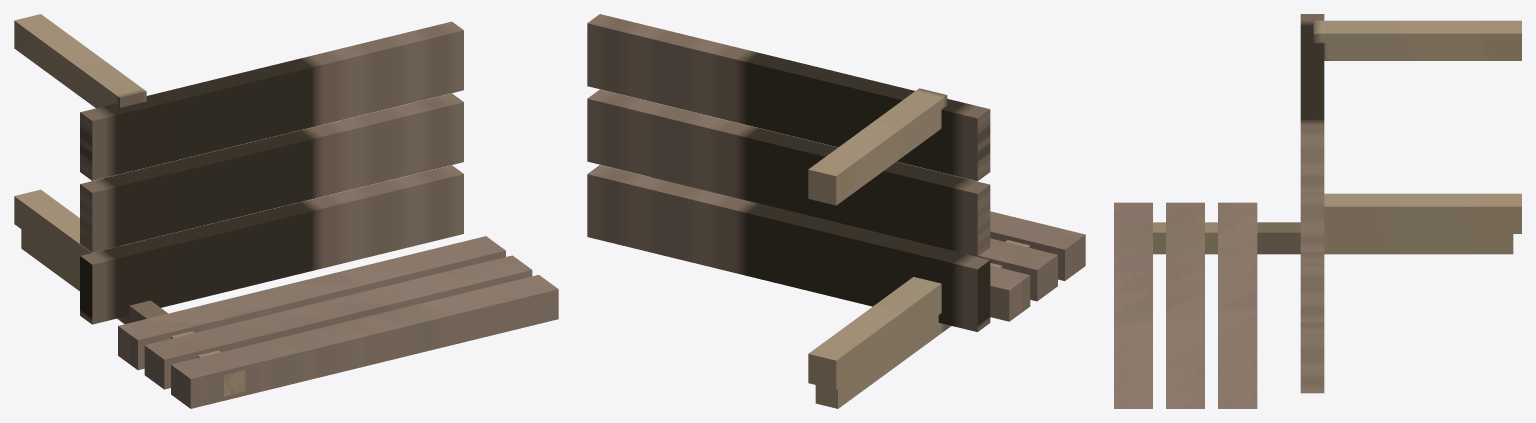
Rendered from pz_benche_seating_outdoor_01_park_0_0.obj.
The picture shows the model from 3 angles, left to right: view 1: azimuth 30°, elevation 25°; view 2: azimuth 150°, elevation 25°; view 3: azimuth 270°, elevation 25°; orthographic projection. The views are drawn at different scales.
Size of the model in its own units: 0.975 by 0.575 by 0.9403.
1 material, 1 textured.
